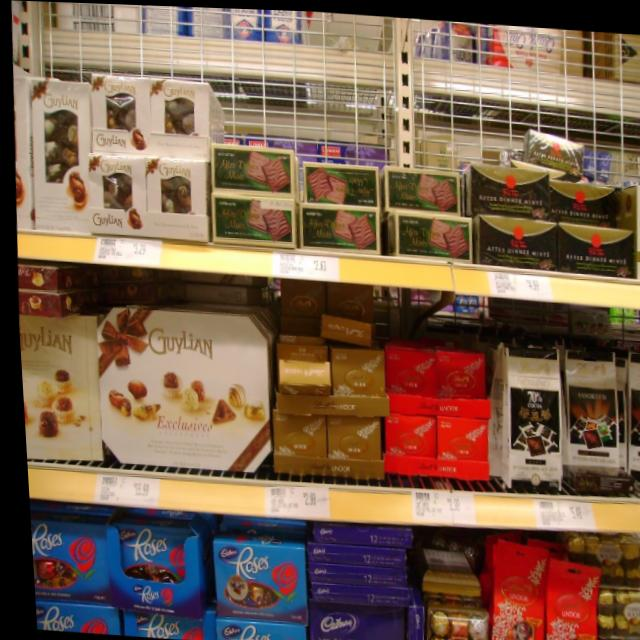q256: (200, 526, 302, 621), (24, 510, 108, 603), (108, 524, 197, 608)
q52: (488, 339, 566, 493)
